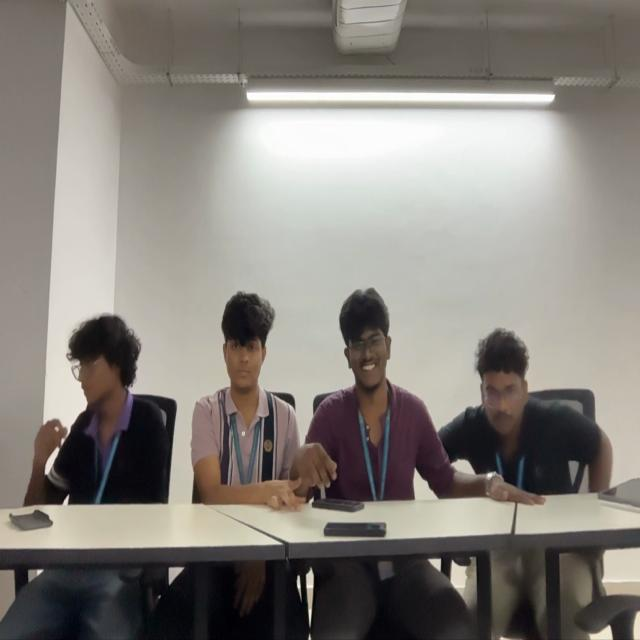Isolated: (33, 312, 163, 503)
socializing: (188, 288, 612, 497)
